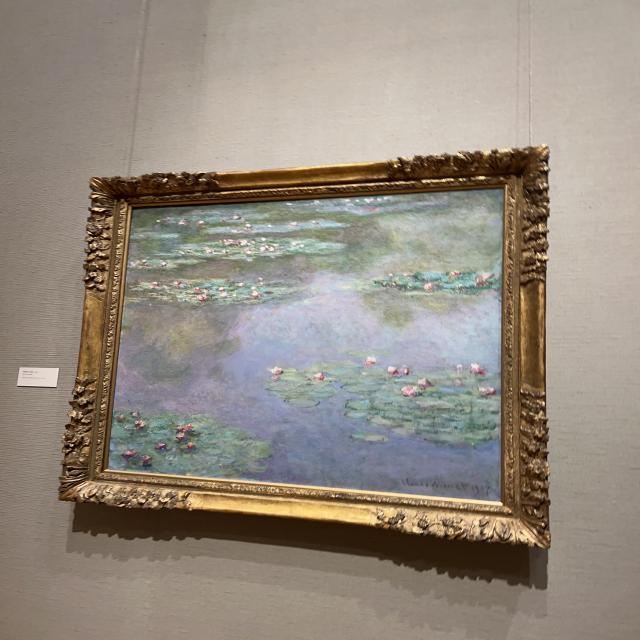lilies: (108, 189, 499, 497)
